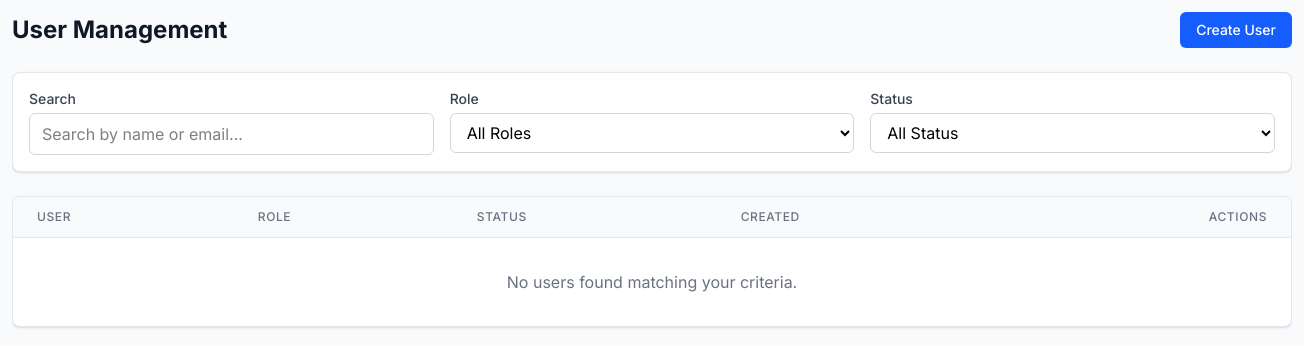
UserList › Filtering › filters users by active status
The width and height of the screenshot is (1304, 345).
Step 1. Select "Inactive" in the dropdown showing "All Status" → (1073, 133), box [870,113,1275,153]
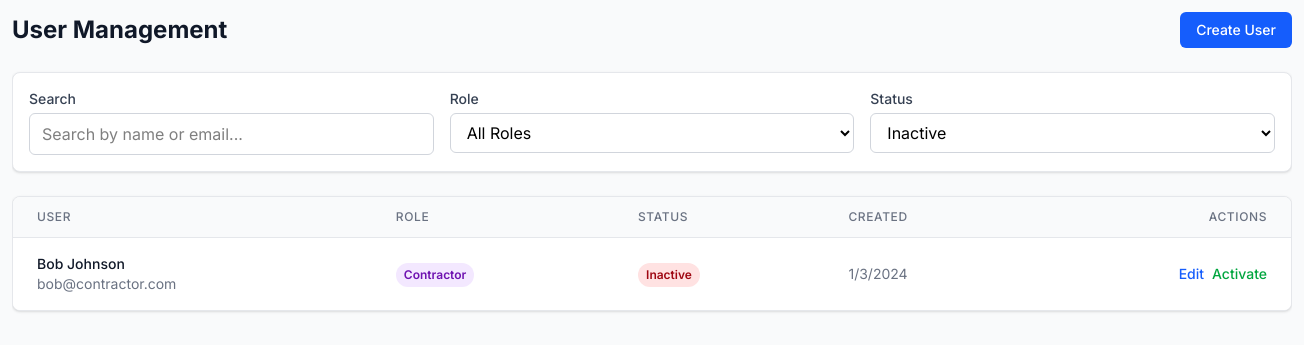
Expected: the text "bob@contractor.com" is shown, [37,275,176,292]
